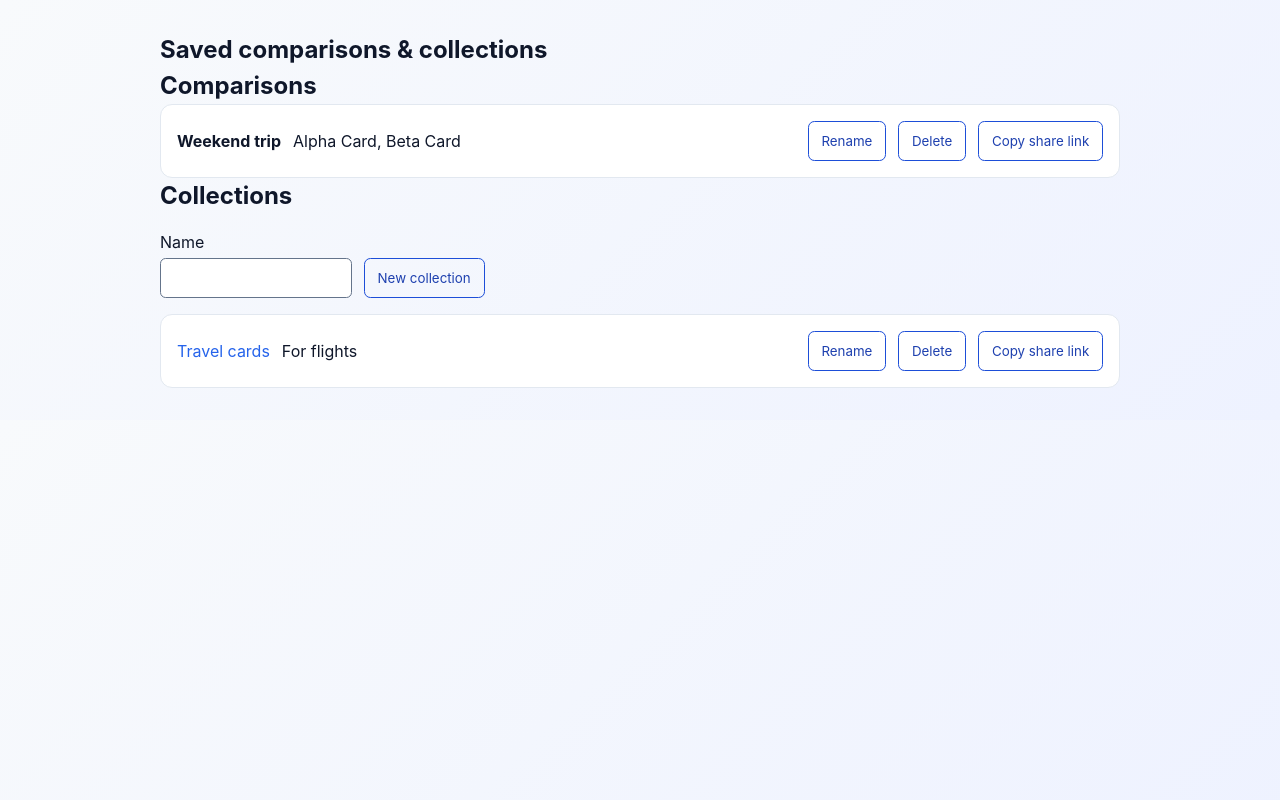
SavedPage › lists saved items with headings and accessible action buttons, renames and deletes a comparison
Expected: the heading "Saved comparisons & collections" is shown, [160,35,547,64]
Expected: the heading "Comparisons" is shown, [160,71,317,100]
Click the button "Rename" in the row of "Weekend trip" at (847, 141), box [808,121,886,161]
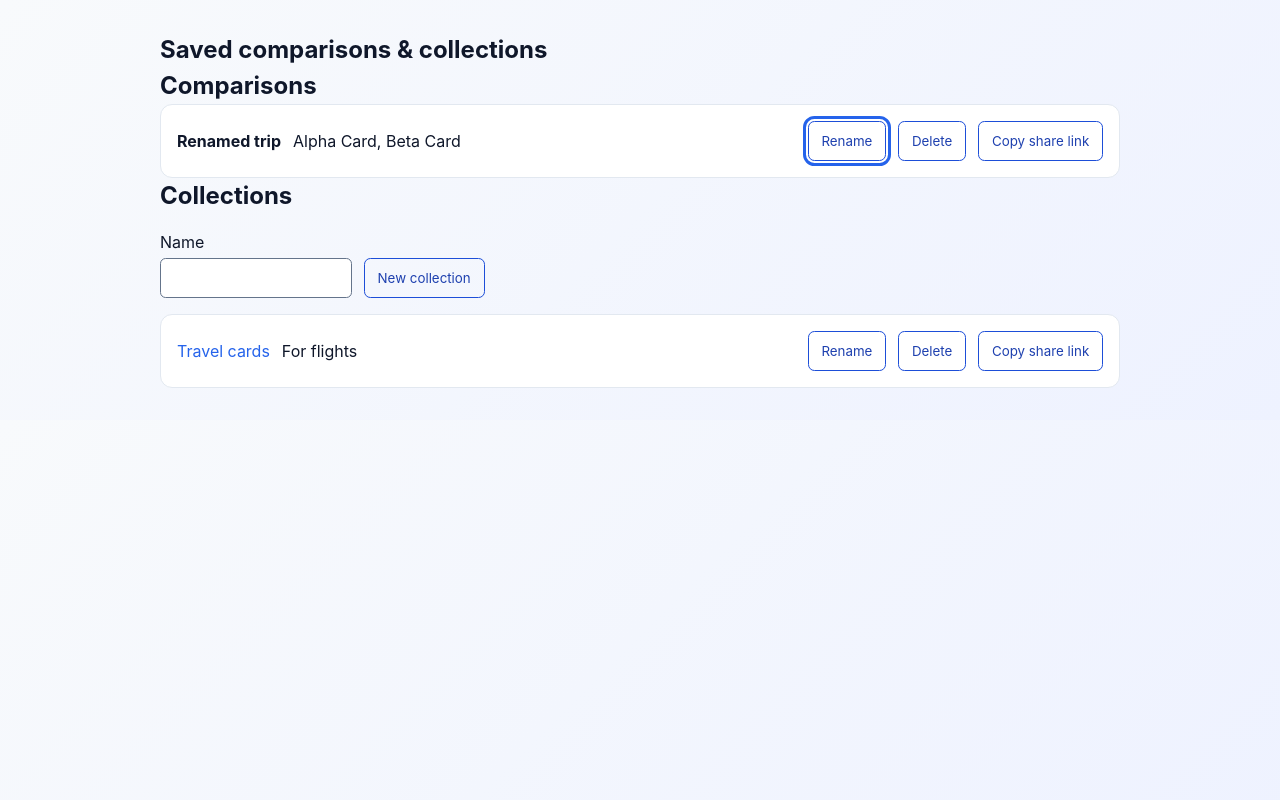
Expected: the text "Renamed trip" is shown, [177,129,281,153]
Click the button "Delete" in the row of "Renamed trip" at (932, 141), box [898,121,966,161]
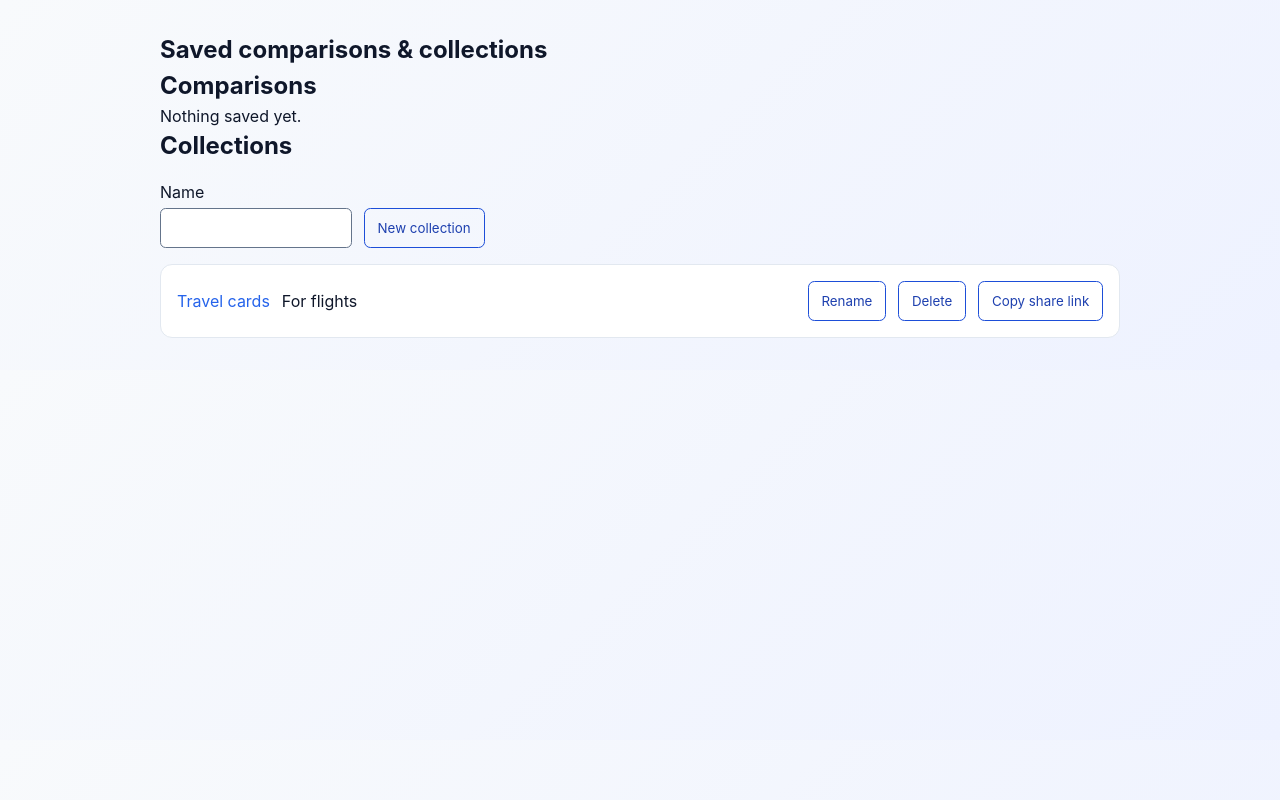
Expected: the text "Renamed trip" is gone
